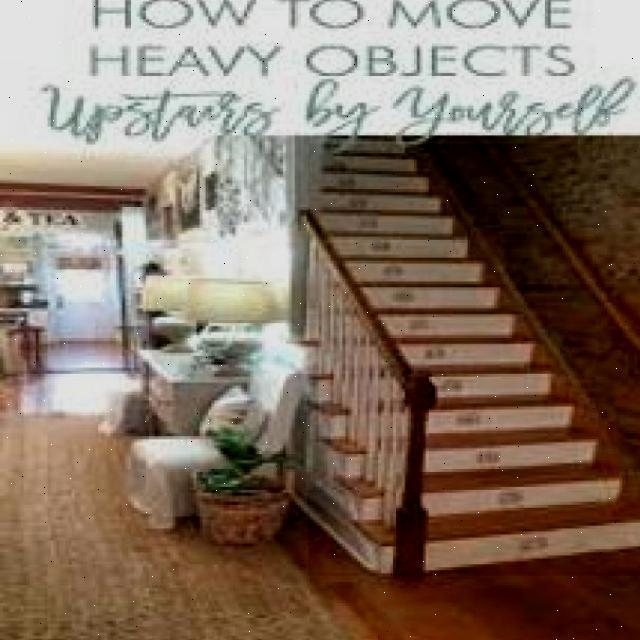stair: (308, 144, 640, 576)
